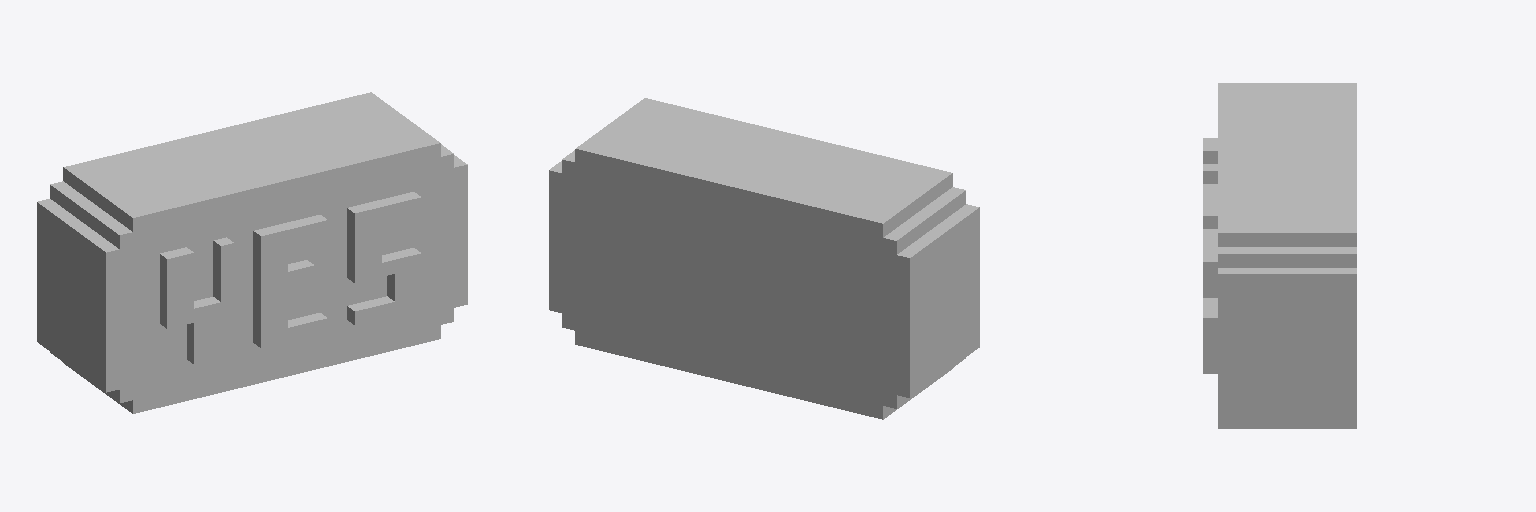
Rendered from Yes.obj.
3 renders of one model, left to right at view 1: azimuth 30°, elevation 25°; view 2: azimuth 150°, elevation 25°; view 3: azimuth 270°, elevation 25°, orthographic.
Visible parts, largest first — view 1: object 1; view 2: object 1; view 3: object 1.
Boxes of the visible parts, x1=… form: object 1: x1=37, y1=92, x2=467, y2=413; object 1: x1=549, y1=98, x2=979, y2=419; object 1: x1=1203, y1=83, x2=1356, y2=428.
Bounding box in the file's own units: 2.7 × 1.4 × 1.